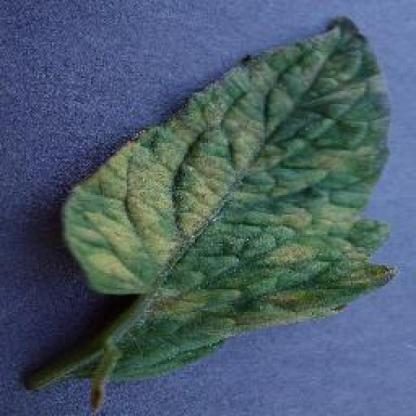Tomato_Leaf_Mold: (60, 18, 397, 340)
